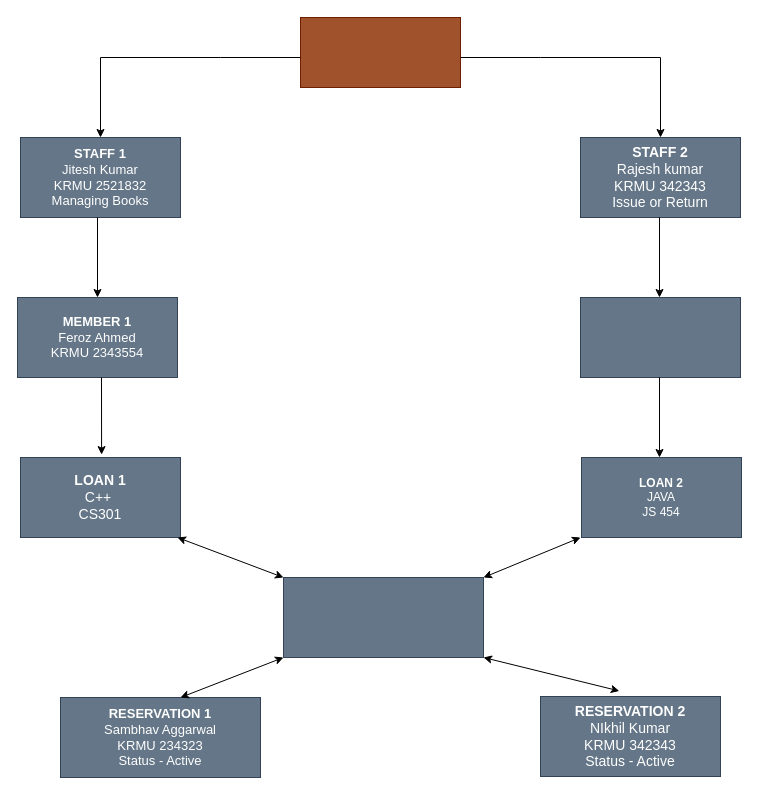
This 759x795 diagram has some shape labels left out. The shapes that lost their labels are listed below. From the top down, each one's centre as x and y in pixels, then its label:
the point at 380,52: KRMU LIbrary
the point at 660,337: MEMBER 2 Ayush Saini KRMU 456780
the point at 383,617: BOOK C++ Advance KRMU 3432444
